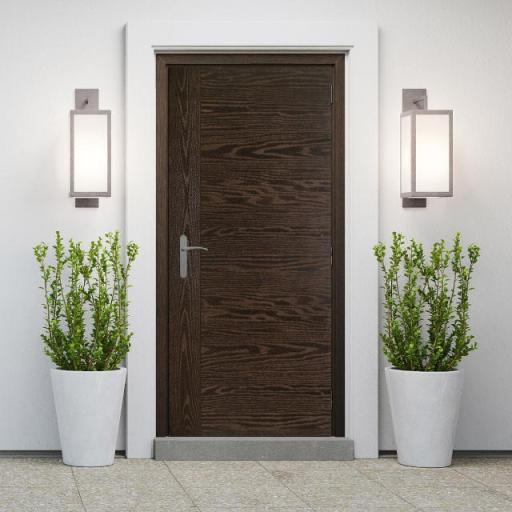door: (158, 52, 344, 438)
